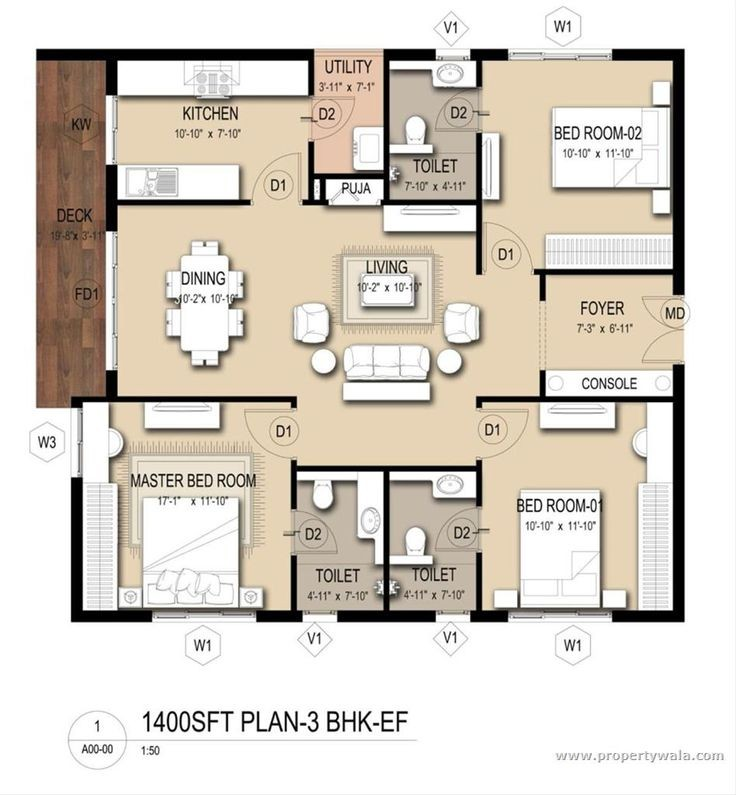door: (635, 276, 697, 368), (468, 399, 538, 468), (475, 211, 537, 284), (235, 409, 309, 462), (305, 88, 361, 145), (252, 156, 310, 206), (432, 509, 496, 553), (293, 506, 338, 568)
room: (470, 390, 678, 625), (78, 402, 303, 614), (301, 205, 479, 467), (479, 51, 681, 273), (114, 196, 305, 406), (103, 57, 315, 199), (292, 462, 391, 629), (382, 463, 482, 626), (390, 52, 490, 205), (315, 50, 388, 180), (314, 178, 385, 208)
wall: (33, 40, 316, 73), (662, 38, 695, 296), (668, 374, 696, 621), (66, 387, 304, 415), (293, 455, 482, 486), (473, 391, 686, 408), (469, 140, 490, 273), (529, 264, 684, 281), (68, 476, 86, 622), (380, 50, 398, 182), (611, 38, 684, 70), (340, 605, 437, 628), (78, 610, 156, 632), (102, 163, 125, 235), (284, 558, 310, 617), (608, 603, 685, 622), (385, 44, 435, 71), (472, 551, 492, 615), (252, 605, 305, 629), (468, 41, 509, 67), (99, 55, 125, 92), (307, 170, 384, 182), (304, 139, 317, 206), (472, 462, 490, 503), (98, 367, 125, 394), (473, 611, 513, 629), (385, 478, 390, 611), (288, 463, 301, 509)
window: (97, 237, 121, 362), (156, 602, 256, 629), (508, 608, 620, 632), (508, 45, 608, 63), (102, 90, 120, 161), (72, 404, 90, 469), (304, 608, 341, 629), (439, 604, 470, 629), (437, 47, 475, 59)
